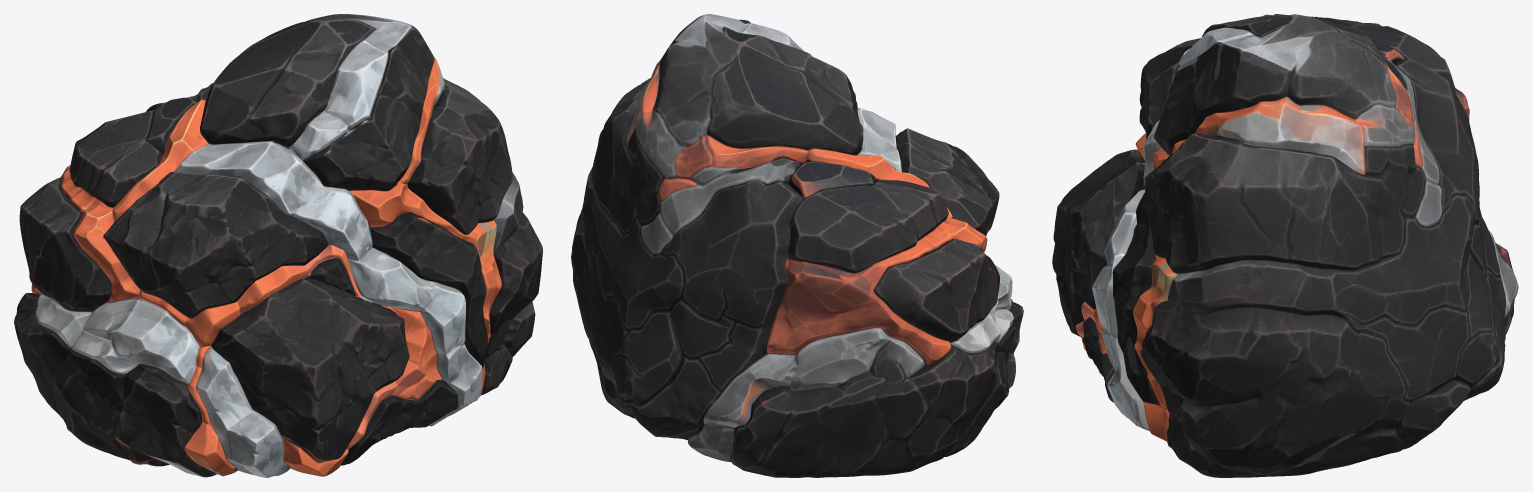
File: Erz.glb
3 renders of one model, left to right at view 1: azimuth 30°, elevation 25°; view 2: azimuth 150°, elevation 25°; view 3: azimuth 270°, elevation 25°, orthographic. The views are drawn at different scales.
Size of the model in its own units: 1.9 by 1.45 by 1.56.
Materials: 1 (1 with a texture image).
